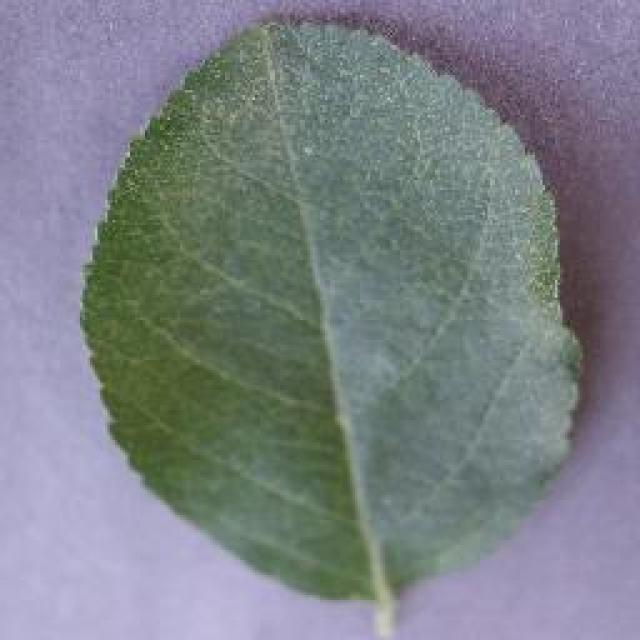apple healthy: (78, 10, 588, 630)
